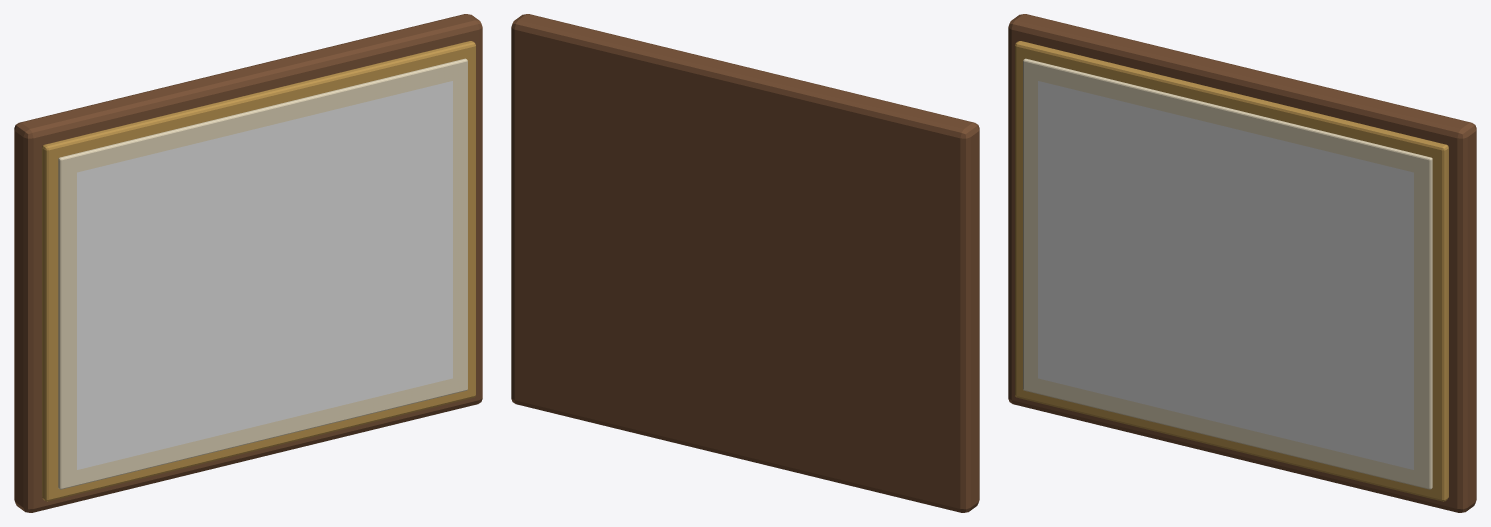
The model's file is SM_CH_Story_Frame.fbx.
The picture shows the model from 3 angles, left to right: view 1: azimuth 30°, elevation 25°; view 2: azimuth 150°, elevation 25°; view 3: azimuth 330°, elevation 25°; orthographic projection.
Visible parts, largest first — view 1: SM_CH_Story_Frame; view 2: SM_CH_Story_Frame; view 3: SM_CH_Story_Frame.
Part boxes in pixels (x1,y1,x2,y2): SM_CH_Story_Frame: (14,14,482,512); SM_CH_Story_Frame: (511,14,979,512); SM_CH_Story_Frame: (1008,14,1476,512).
Size of the model in its own units: 10000 by 920 by 8000.
